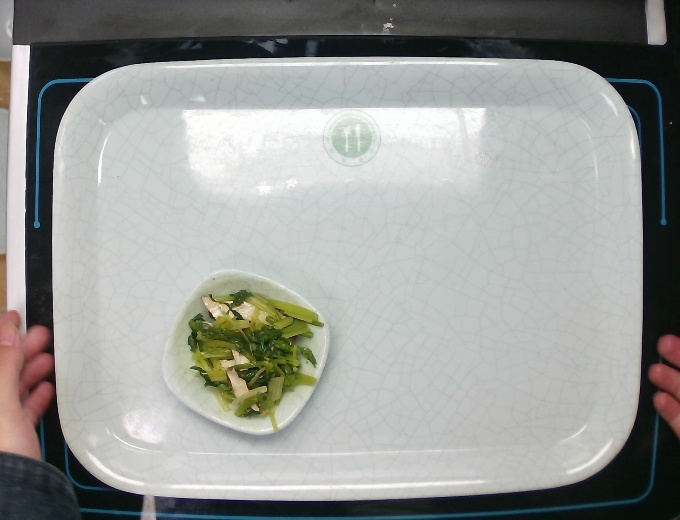JYsf-Si_Fang_Die: (159, 268, 335, 437)
